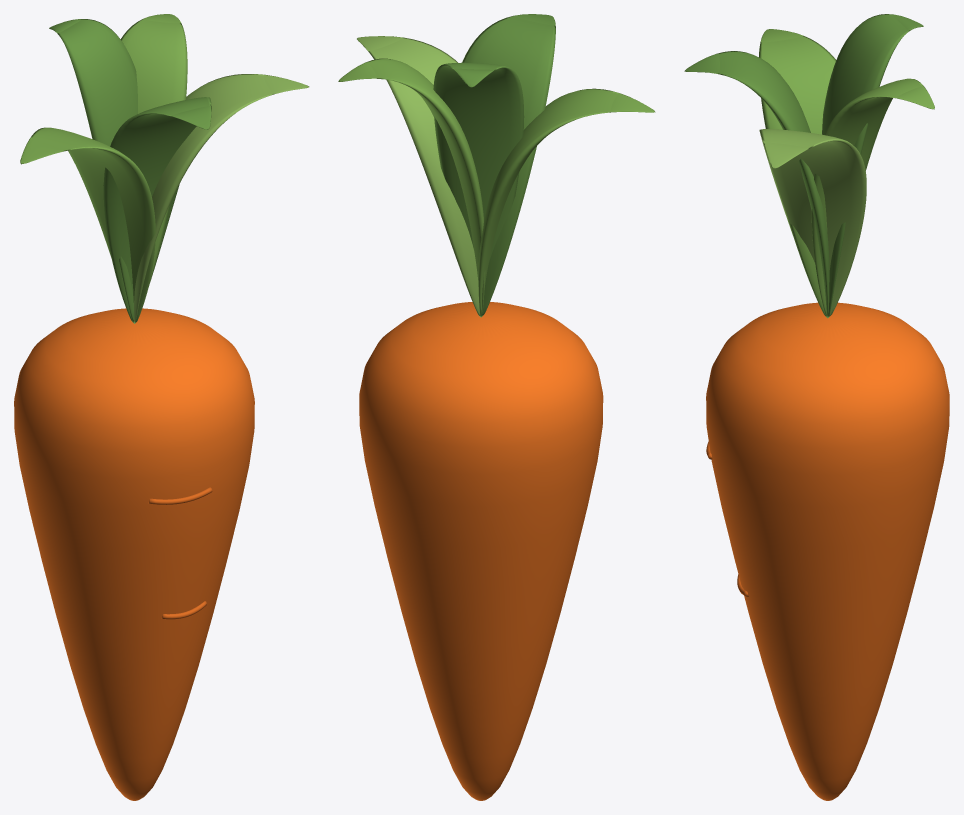
The model's file is carrot_realtime.glb.
3 views of the same model, side by side, from view 1: azimuth 30°, elevation 25°; view 2: azimuth 150°, elevation 25°; view 3: azimuth 270°, elevation 25° (orthographic).
Parts seen in each view (by area): view 1: Carrot_Taproot.004, Carrot_Leaf_02.004, Carrot_Leaf_01.004, Carrot_Leaf_05.004, Carrot_Leaf_03.004, Carrot_Leaf_04.004; view 2: Carrot_Taproot.004, Carrot_Leaf_05.004, Carrot_Leaf_02.004, Carrot_Leaf_03.004, Carrot_Leaf_01.004, Carrot_Leaf_04.004; view 3: Carrot_Taproot.004, Carrot_Leaf_03.004, Carrot_Leaf_05.004, Carrot_Leaf_01.004, Carrot_Leaf_02.004, Carrot_Leaf_04.004.
Part boxes in pixels (bbox=[...]): Carrot_Taproot.004: bbox=[14, 308, 254, 800]; Carrot_Leaf_02.004: bbox=[103, 97, 211, 322]; Carrot_Leaf_01.004: bbox=[20, 127, 155, 323]; Carrot_Leaf_05.004: bbox=[49, 19, 137, 322]; Carrot_Leaf_03.004: bbox=[134, 74, 309, 323]; Carrot_Leaf_04.004: bbox=[120, 14, 187, 286]; Carrot_Taproot.004: bbox=[359, 302, 603, 800]; Carrot_Leaf_05.004: bbox=[433, 62, 524, 261]; Carrot_Leaf_02.004: bbox=[462, 14, 555, 316]; Carrot_Leaf_03.004: bbox=[357, 36, 480, 317]; Carrot_Leaf_01.004: bbox=[478, 88, 655, 317]; Carrot_Leaf_04.004: bbox=[338, 58, 485, 315]; Carrot_Taproot.004: bbox=[706, 302, 949, 800]; Carrot_Leaf_03.004: bbox=[759, 129, 866, 317]; Carrot_Leaf_05.004: bbox=[822, 14, 923, 317]; Carrot_Leaf_01.004: bbox=[759, 29, 836, 317]; Carrot_Leaf_02.004: bbox=[684, 51, 829, 317]; Carrot_Leaf_04.004: bbox=[811, 78, 934, 317].
Bounding box in the file's own units: 0.7069 × 1.75 × 0.5505.
